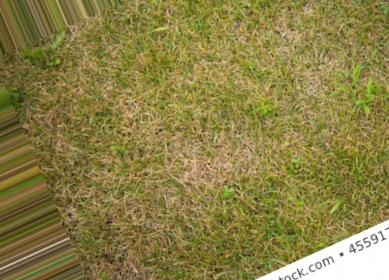patch: (73, 164, 193, 236), (67, 72, 107, 110), (128, 120, 190, 139), (57, 115, 89, 146), (216, 151, 245, 181)
